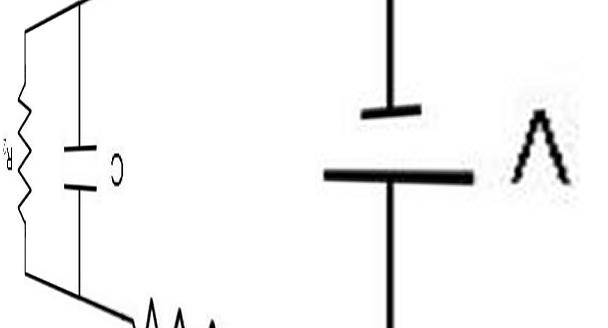resistor: (12, 72, 42, 225)
